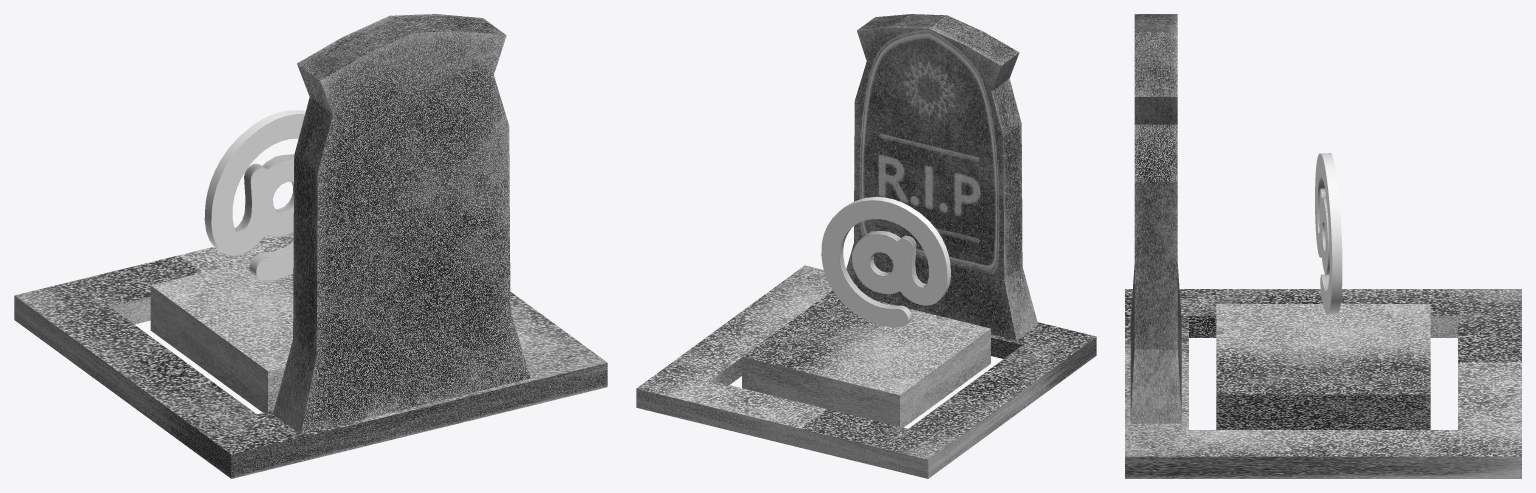
File: meme9.glb
3 renders of one model, left to right at view 1: azimuth 30°, elevation 25°; view 2: azimuth 150°, elevation 25°; view 3: azimuth 270°, elevation 25°, orthographic. The views are drawn at different scales.
Parts seen in each view (by area): view 1: Cube.040, Cube.043, Cube.044, Curve; view 2: Cube.040, Cube.043, Cube.044, Curve; view 3: Cube.043, Cube.044, Cube.040, Curve.
Part boxes in pixels (left/top/right/bottom): Cube.040: left=273, top=14, right=530, bottom=434; Cube.043: left=14, top=232, right=607, bottom=478; Cube.044: left=150, top=260, right=293, bottom=412; Curve: left=204, top=110, right=305, bottom=280; Cube.040: left=846, top=14, right=1037, bottom=340; Cube.043: left=636, top=265, right=1096, bottom=478; Cube.044: left=742, top=290, right=990, bottom=427; Curve: left=821, top=196, right=950, bottom=327; Cube.043: left=1125, top=289, right=1521, bottom=478; Cube.044: left=1216, top=304, right=1430, bottom=429; Cube.040: left=1130, top=14, right=1181, bottom=423; Curve: left=1315, top=153, right=1342, bottom=314.
Size of the model in its own units: 0.9278 by 0.9343 by 0.9278.
Materials: 3 (3 with a texture image).
